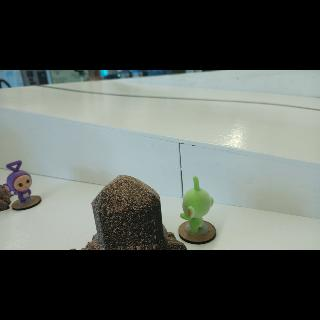teletubby: (180, 177, 214, 234), (3, 161, 32, 204)
